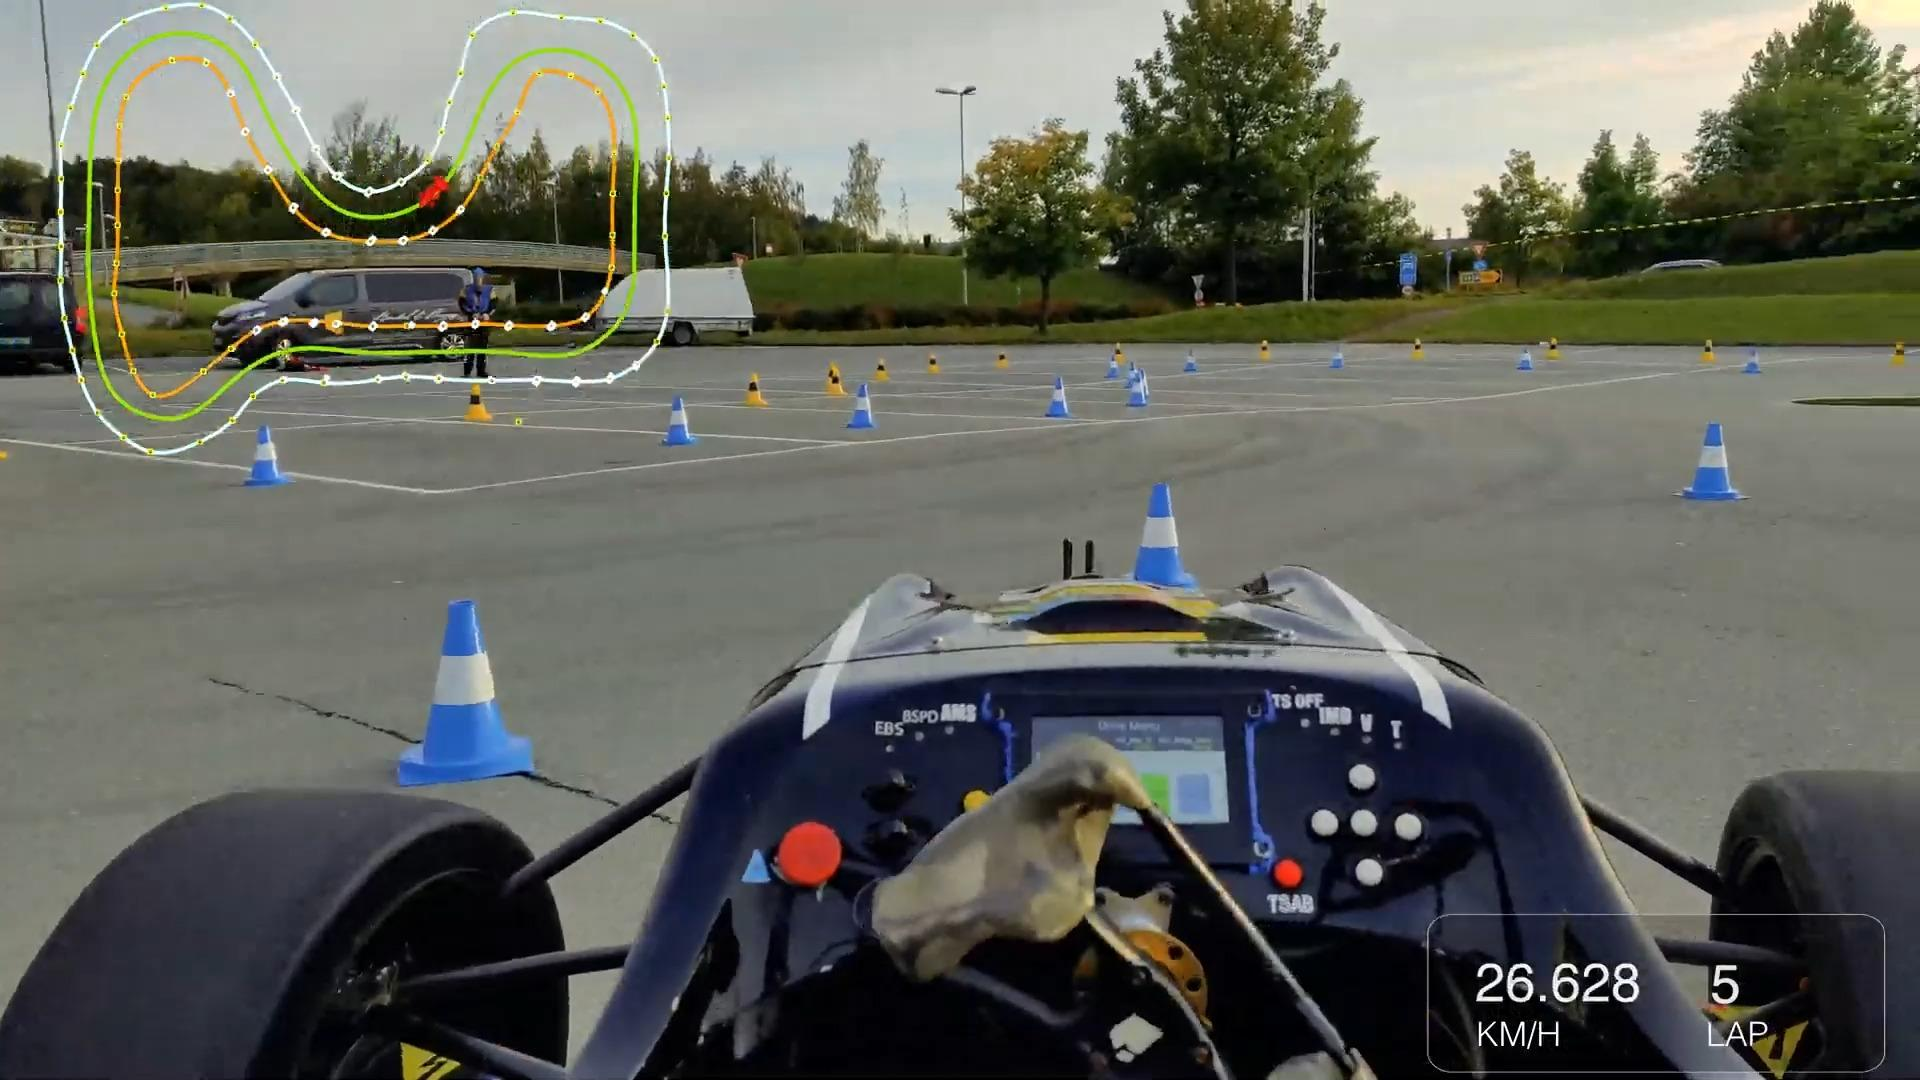blue_cone: (386, 589, 537, 779), (1113, 480, 1203, 596), (1687, 419, 1739, 504), (240, 423, 293, 489), (657, 397, 696, 446), (841, 384, 878, 433), (1047, 372, 1071, 418), (1127, 375, 1147, 407), (1742, 348, 1763, 378), (1104, 353, 1122, 381), (1137, 368, 1151, 401), (1329, 342, 1345, 371), (1519, 348, 1535, 373), (1184, 348, 1200, 373), (1125, 360, 1138, 388)
yellow_cone: (464, 380, 495, 423), (741, 373, 766, 407), (822, 360, 840, 393), (1888, 342, 1911, 368), (828, 367, 845, 397), (1700, 339, 1717, 364), (874, 357, 891, 382), (1545, 338, 1563, 361), (926, 349, 942, 373), (1257, 340, 1273, 361), (1113, 340, 1126, 365), (1412, 338, 1427, 359), (997, 348, 1009, 371)
